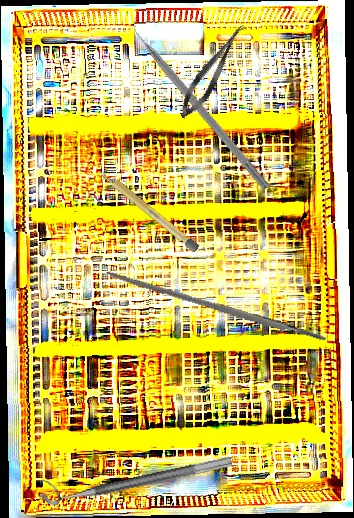Chopper: (124, 12, 280, 191)
Fixation Ring: (37, 440, 233, 508)
Micro Scissor: (173, 18, 252, 124)
Scalpel Handle: (104, 268, 329, 346), (97, 167, 201, 253)
